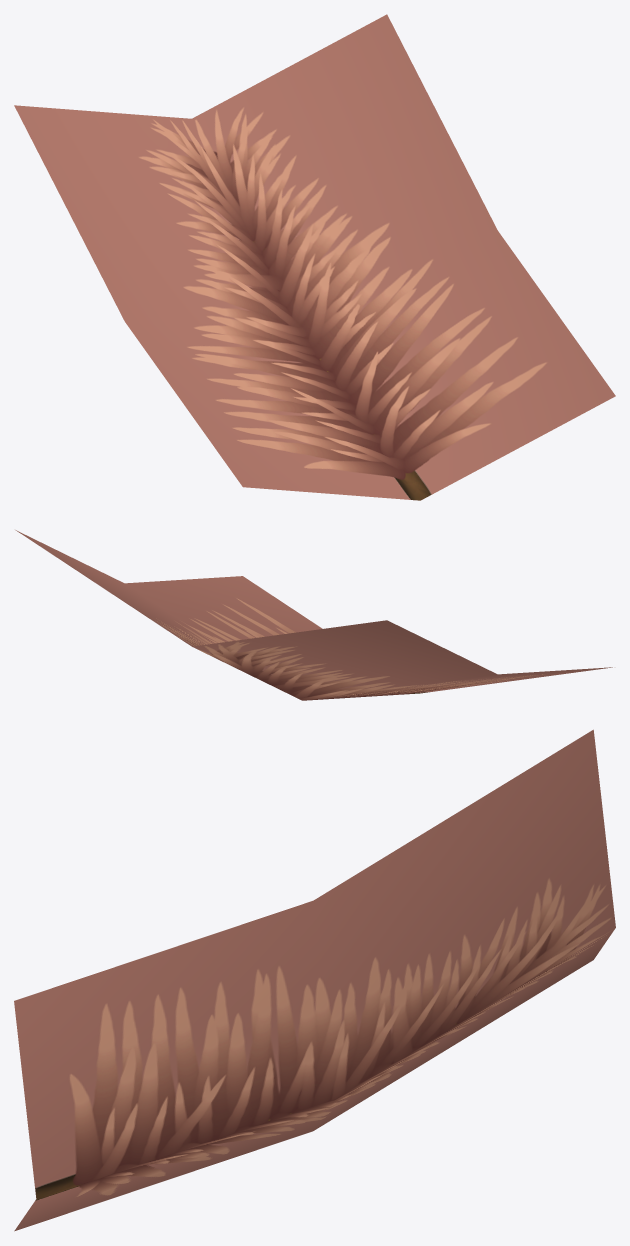
File: Branch_a.fbx
The picture shows the model from 3 angles, top to bottom: view 1: azimuth 30°, elevation 25°; view 2: azimuth 150°, elevation 25°; view 3: azimuth 270°, elevation 25°; orthographic projection. The views are drawn at different scales.
Parts seen in each view (by area): view 1: Branch_a; view 2: Branch_a; view 3: Branch_a.
Boxes of the visible parts, box(x1,y1,x2,y2) form: Branch_a: box(14, 14, 615, 500); Branch_a: box(15, 530, 612, 700); Branch_a: box(14, 729, 615, 1231).
Bounding box in the file's own units: 376 × 269 × 415.
